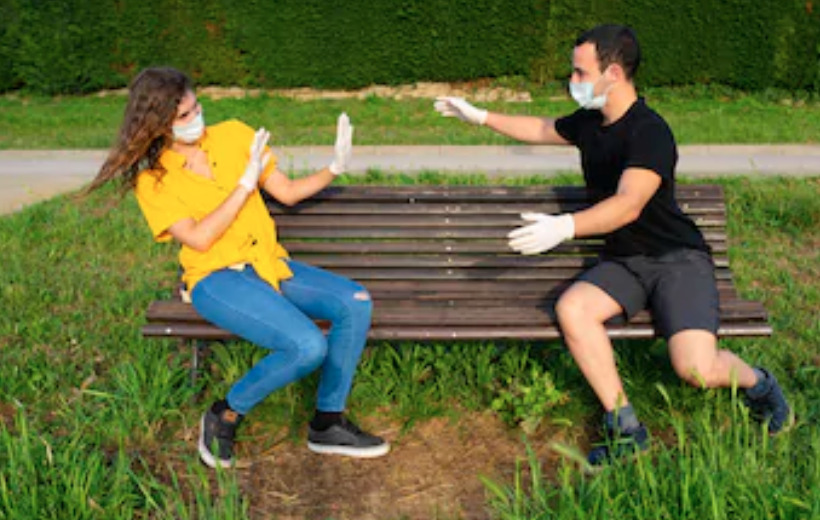Caution: (82, 26, 800, 472)
